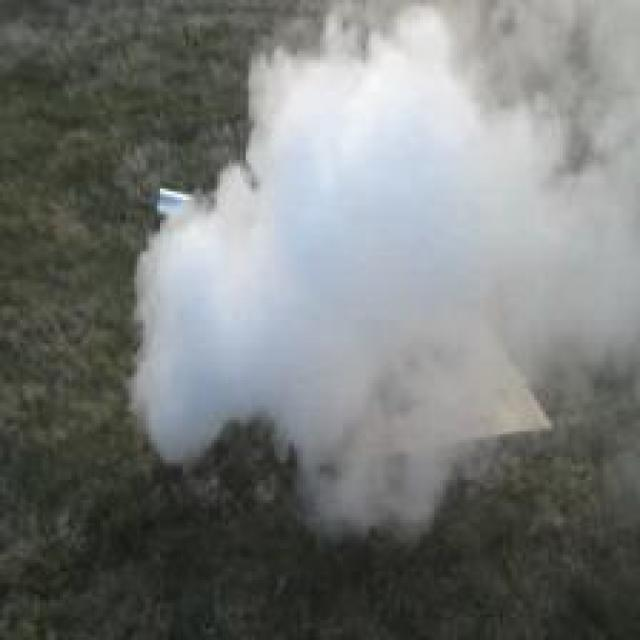Smoke: (135, 0, 640, 537)
